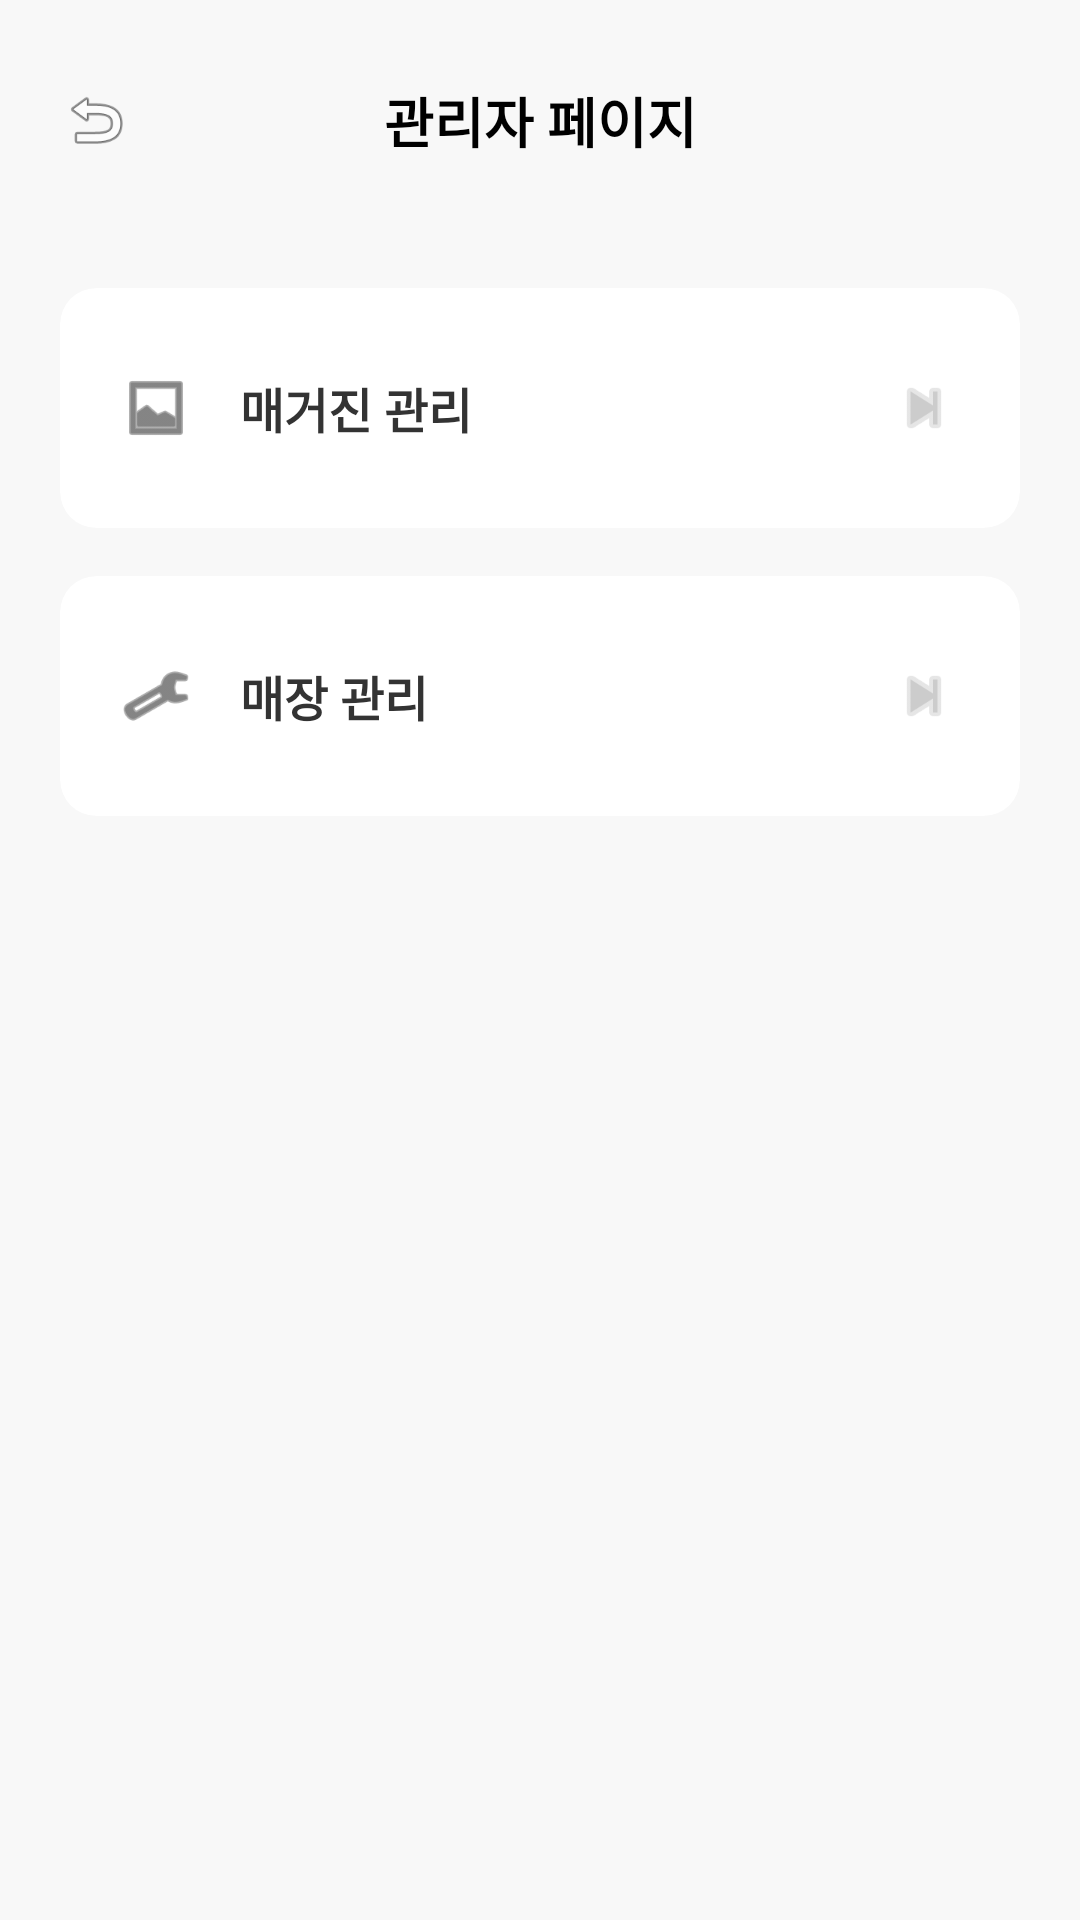

Icons on this 1080px x 1920px Android screen, each with its box as (x1, y1, x2, y2):
gallery: (129, 381, 183, 435)
manage: (124, 671, 188, 721)
next: (907, 388, 941, 428), (907, 676, 941, 716)
revert: (71, 97, 123, 144)
